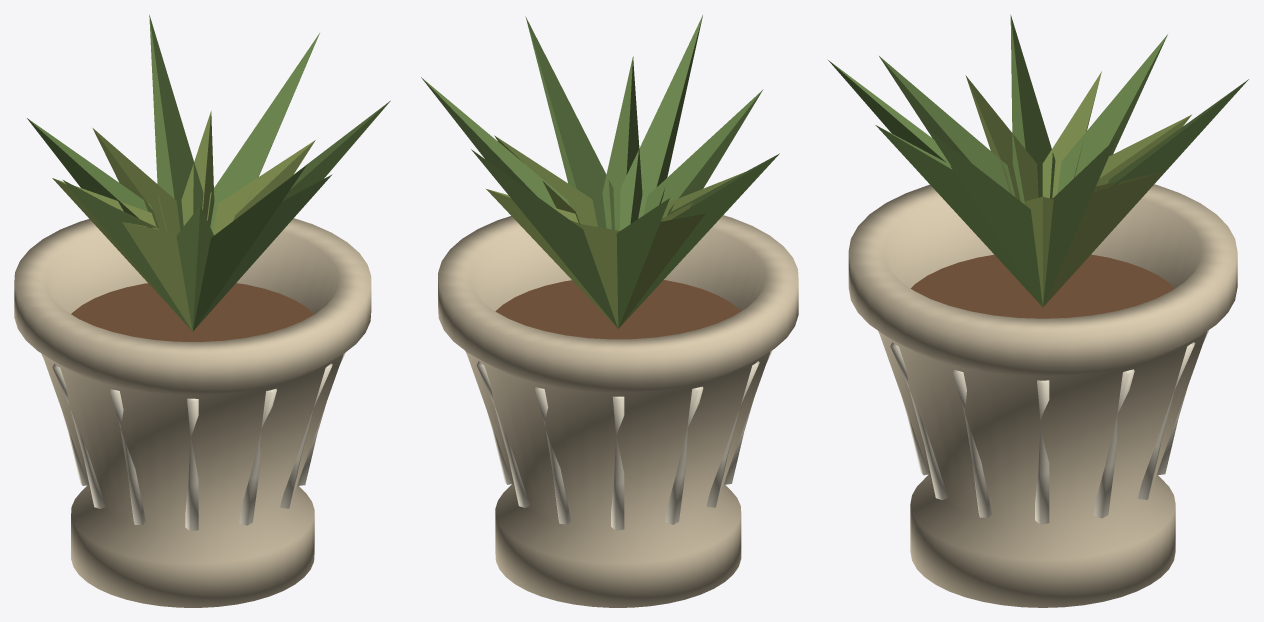
The model's file is stone-planter.glb.
The picture shows the model from 3 angles, left to right: view 1: azimuth 30°, elevation 25°; view 2: azimuth 150°, elevation 25°; view 3: azimuth 270°, elevation 25°; orthographic projection. The views are drawn at different scales.
Visible parts, largest first — view 1: stone-planter__limestone, stone-planter__green, stone-planter__leaflight, stone-planter__endgrain, stone-planter__marble; view 2: stone-planter__limestone, stone-planter__green, stone-planter__endgrain, stone-planter__leaflight, stone-planter__marble; view 3: stone-planter__limestone, stone-planter__green, stone-planter__leaflight, stone-planter__endgrain, stone-planter__marble.
Part boxes in pixels (left/top/right/bottom): stone-planter__limestone: left=14, top=218, right=371, bottom=607; stone-planter__green: left=27, top=15, right=390, bottom=331; stone-planter__leaflight: left=52, top=111, right=315, bottom=330; stone-planter__endgrain: left=71, top=283, right=314, bottom=341; stone-planter__marble: left=41, top=352, right=345, bottom=531; stone-planter__limestone: left=438, top=215, right=798, bottom=607; stone-planter__green: left=421, top=15, right=779, bottom=328; stone-planter__endgrain: left=495, top=280, right=740, bottom=339; stone-planter__leaflight: left=486, top=135, right=744, bottom=328; stone-planter__marble: left=465, top=350, right=772, bottom=530; stone-planter__limestone: left=848, top=184, right=1237, bottom=607; stone-planter__green: left=828, top=15, right=1248, bottom=306; stone-planter__leaflight: left=965, top=71, right=1191, bottom=306; stone-planter__endgrain: left=911, top=254, right=1174, bottom=318; stone-planter__marble: left=878, top=330, right=1208, bottom=524.
Size of the model in its own units: 0.9002 by 1.25 by 0.9557.
